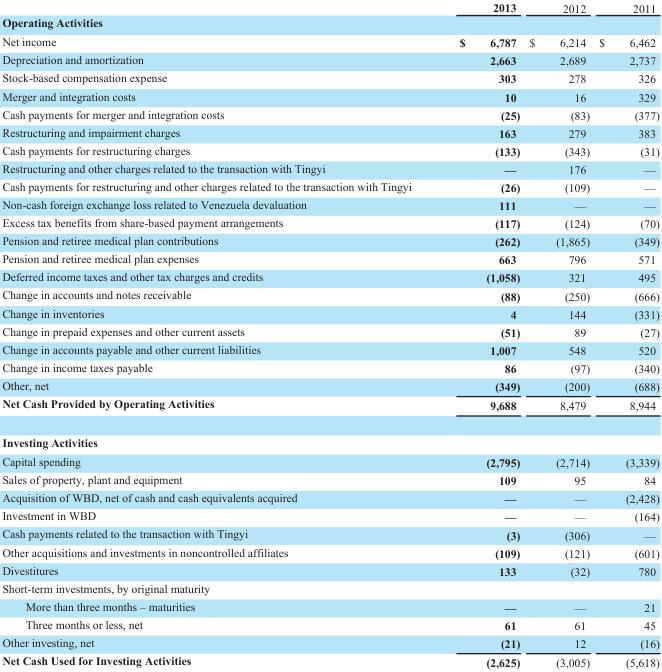table: (1, 1, 658, 668)
table column: (1, 1, 434, 668), (434, 1, 523, 668), (523, 1, 593, 668), (593, 1, 658, 668)
table column header: (1, 1, 658, 14)
table projected row header: (1, 423, 658, 451), (1, 14, 658, 31), (1, 579, 658, 596)
table row: (1, 394, 658, 423), (1, 423, 658, 451), (1, 31, 658, 50), (1, 68, 658, 87), (1, 267, 658, 286), (1, 451, 658, 470), (1, 506, 658, 525), (1, 596, 658, 615), (1, 50, 658, 68), (1, 87, 658, 105), (1, 105, 658, 123), (1, 123, 658, 141), (1, 141, 658, 159), (1, 159, 658, 177), (1, 177, 658, 195), (1, 195, 658, 213), (1, 213, 658, 231), (1, 231, 658, 249), (1, 249, 658, 267), (1, 286, 658, 304), (1, 304, 658, 322), (1, 322, 658, 340), (1, 340, 658, 358), (1, 358, 658, 376), (1, 376, 658, 394), (1, 470, 658, 488), (1, 488, 658, 506), (1, 525, 658, 543), (1, 543, 658, 561), (1, 561, 658, 579), (1, 615, 658, 633), (1, 633, 658, 651), (1, 14, 658, 31), (1, 579, 658, 596), (1, 651, 658, 668), (1, 1, 658, 14)
